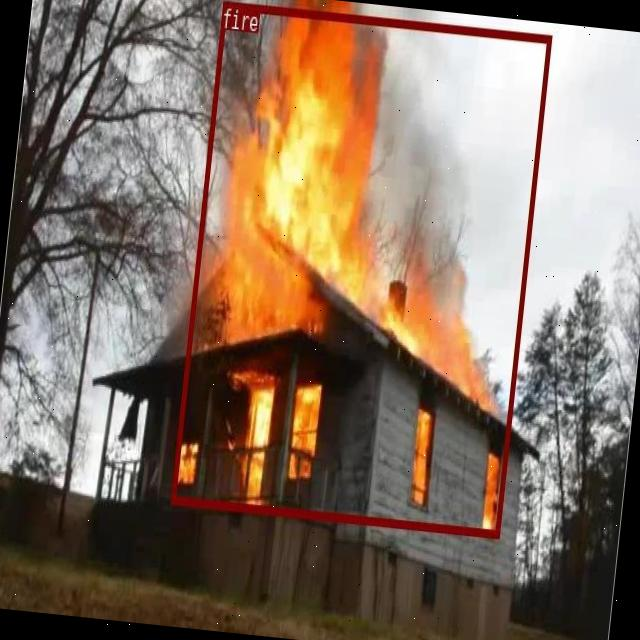fire: (170, 1, 551, 537)
